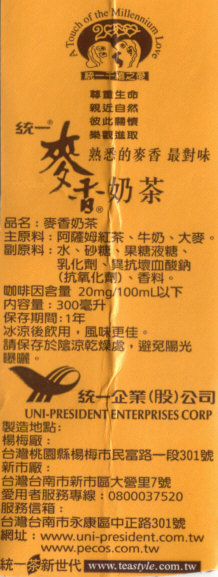milk tea: (1, 1, 218, 568)
